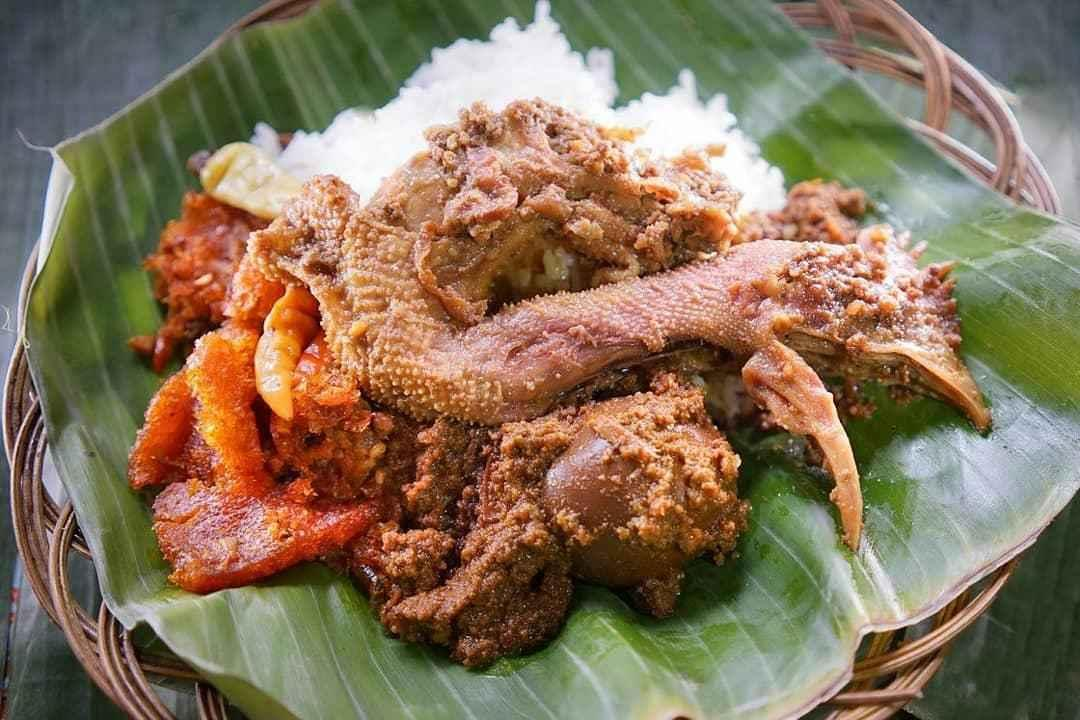gudeg: (136, 20, 990, 671)
